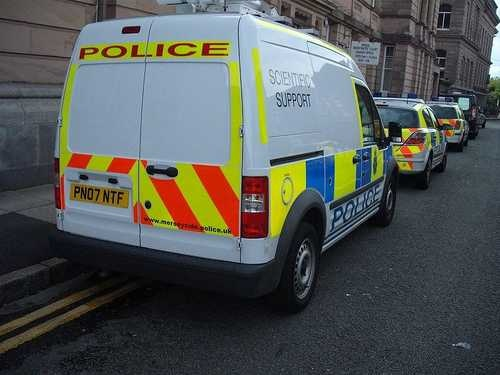Police Car: (368, 83, 459, 174), (434, 98, 483, 154)
Police Van: (55, 5, 399, 308)
